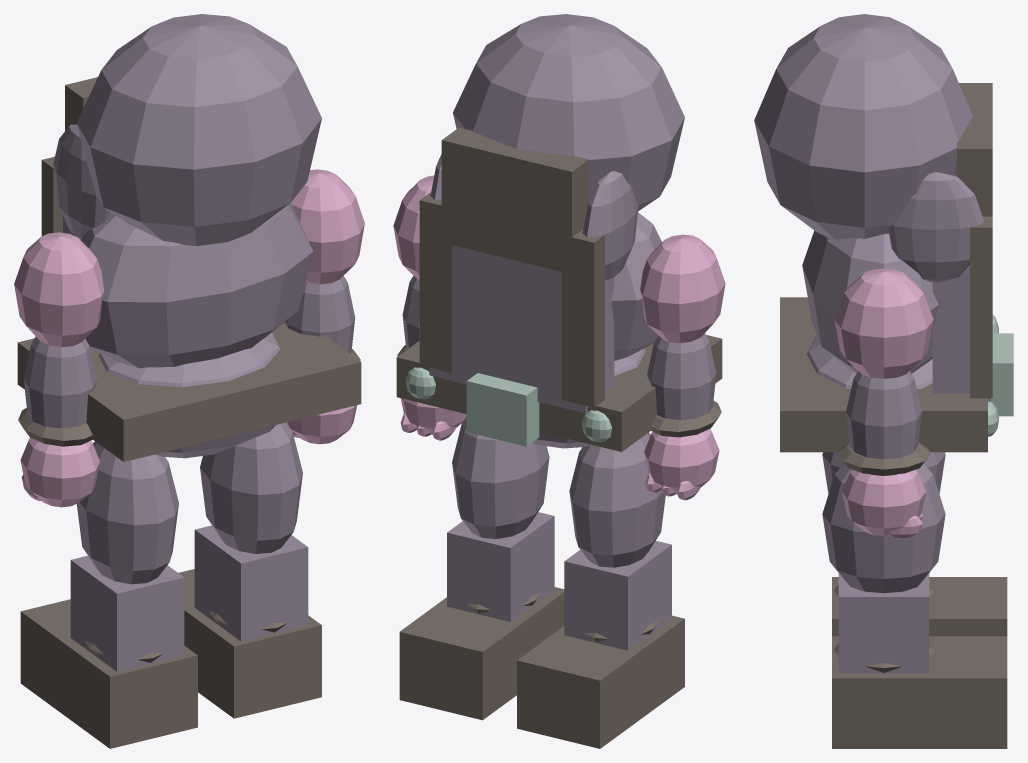
File: jewel_hunter.gltf
3 views of the same model, side by side, from view 1: azimuth 30°, elevation 25°; view 2: azimuth 150°, elevation 25°; view 3: azimuth 270°, elevation 25° (orthographic). The views are drawn at different scales.
Parts seen in each view (by area): view 1: Part7, Part2, Part4, Part19, Part31, Part17, Part29, Part30, Part18, Part14, Part26, Part15 (+8 smaller); view 2: Part7, Part8, Part3, Part19, Part31, Part17, Part30, Part18, Part29, Part4, Part38, Part14 (+13 smaller); view 3: Part7, Part31, Part4, Part26, Part29, Part30, Part13, Part2, Part27, Part19, Part3, Part28 (+7 smaller).
Part boxes in pixels (x1=…): Part7: x1=77, y1=14, x2=321, y2=245; Part2: x1=81, y1=203, x2=313, y2=368; Part4: x1=17, y1=322, x2=361, y2=461; Part19: x1=20, y1=599, x2=197, y2=748; Part31: x1=178, y1=569, x2=321, y2=718; Part17: x1=76, y1=441, x2=178, y2=584; Part29: x1=200, y1=422, x2=302, y2=553; Part30: x1=194, y1=525, x2=308, y2=641; Part18: x1=70, y1=555, x2=184, y2=671; Part14: x1=14, y1=232, x2=104, y2=347; Part26: x1=291, y1=169, x2=364, y2=284; Part15: x1=23, y1=336, x2=96, y2=428; Part7: x1=453, y1=14, x2=684, y2=211; Part8: x1=441, y1=127, x2=589, y2=273; Part3: x1=429, y1=245, x2=614, y2=413; Part19: x1=517, y1=615, x2=684, y2=748; Part31: x1=399, y1=587, x2=564, y2=720; Part17: x1=569, y1=432, x2=665, y2=567; Part30: x1=447, y1=512, x2=554, y2=621; Part18: x1=564, y1=541, x2=671, y2=650; Part29: x1=452, y1=417, x2=549, y2=538; Part4: x1=396, y1=335, x2=722, y2=451; Part38: x1=561, y1=229, x2=604, y2=407; Part14: x1=640, y1=234, x2=725, y2=343; Part7: x1=754, y1=14, x2=972, y2=239; Part31: x1=832, y1=636, x2=1007, y2=748; Part4: x1=780, y1=297, x2=987, y2=452; Part26: x1=834, y1=268, x2=933, y2=378; Part29: x1=822, y1=463, x2=945, y2=593; Part30: x1=838, y1=573, x2=929, y2=673; Part13: x1=888, y1=172, x2=984, y2=282; Part2: x1=802, y1=230, x2=938, y2=373; Part27: x1=846, y1=371, x2=921, y2=475; Part19: x1=832, y1=577, x2=1007, y2=636; Part3: x1=932, y1=265, x2=990, y2=401; Part28: x1=842, y1=469, x2=925, y2=536.
Size of the model in its own units: 0.585 by 1.14 by 0.4.
